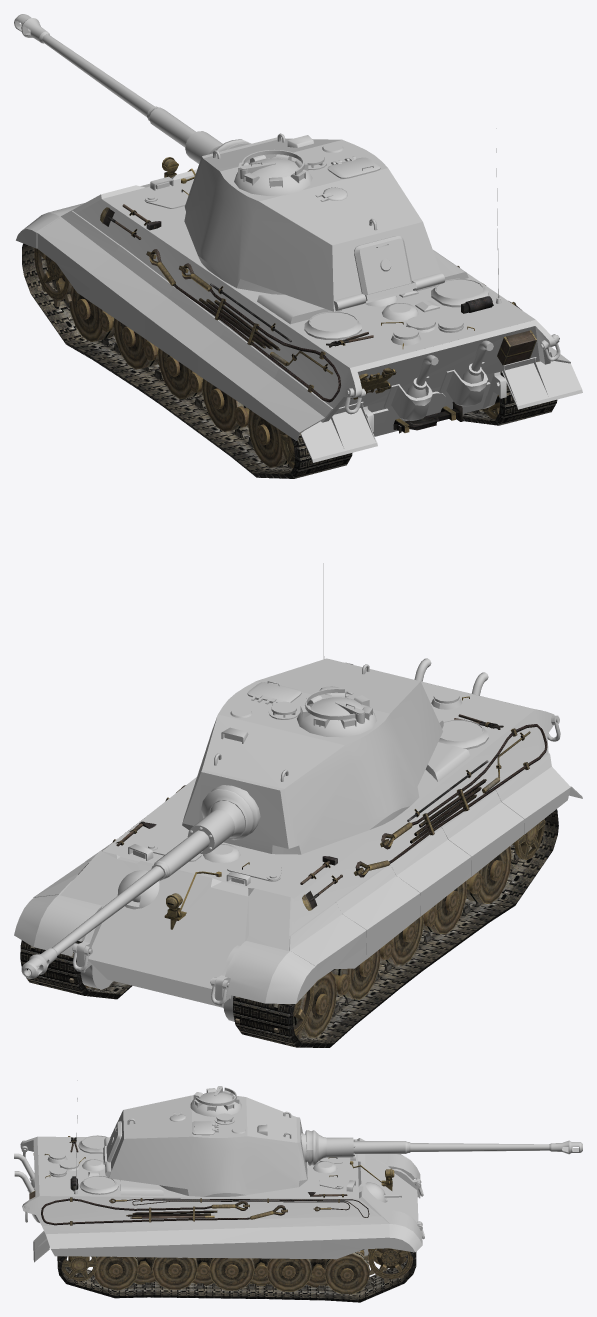
File: ausfb.dae
3 renders of one model, top to bottom at view 1: azimuth 30°, elevation 25°; view 2: azimuth 150°, elevation 25°; view 3: azimuth 270°, elevation 25°, orthographic. The views are drawn at different scales.
Parts seen in each view (by area): view 1: Body_1, Turret_2, Track, Body_2, Turret; view 2: Body_1, Turret_2, Track, Body_2, Turret; view 3: Body_1, Turret_2, Body_2, Track, Turret.
Part boxes in pixels (<box>): Body_1: <box>16,128,582,462</box>; Turret_2: <box>14,14,445,311</box>; Track: <box>22,243,557,478</box>; Body_2: <box>34,248,499,468</box>; Turret: <box>100,157,536,433</box>; Body_1: <box>14,563,582,1021</box>; Turret_2: <box>21,658,443,978</box>; Track: <box>20,809,558,1047</box>; Body_2: <box>31,818,545,1039</box>; Turret: <box>78,696,547,929</box>; Body_1: <box>14,1080,424,1262</box>; Turret_2: <box>103,1086,582,1196</box>; Body_2: <box>61,1248,412,1294</box>; Track: <box>57,1179,416,1302</box>; Turret: <box>29,1136,394,1225</box>.
Size of the model in its own units: 377 by 414 by 1003.
